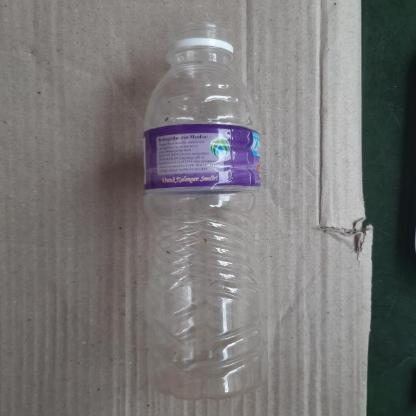Plastic Bottle: (144, 21, 263, 398)
